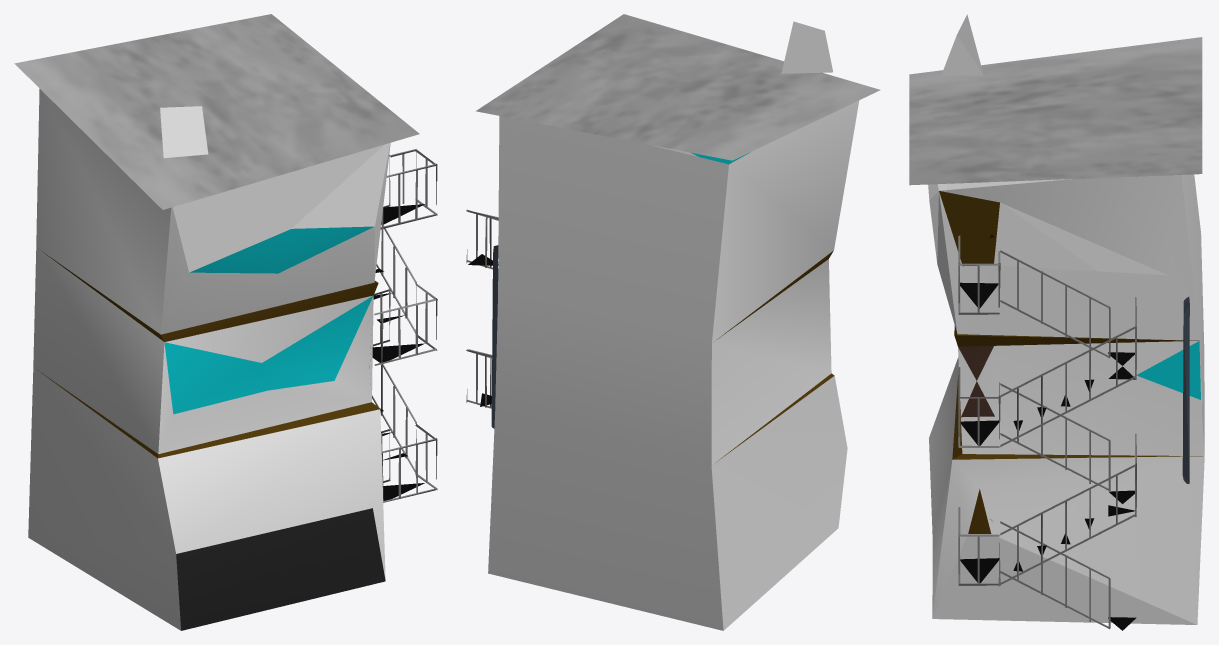
The model's file is PredioTorto-BrancoLOD2.fbx.
3 views of the same model, side by side, from view 1: azimuth 30°, elevation 25°; view 2: azimuth 150°, elevation 25°; view 3: azimuth 270°, elevation 25° (orthographic).
Parts seen in each view (by area): view 1: Predio3AndaresLOD2; view 2: Predio3AndaresLOD2; view 3: Predio3AndaresLOD2.
Part boxes in pixels (left/top/right/bottom): Predio3AndaresLOD2: left=14, top=14, right=437, bottom=630; Predio3AndaresLOD2: left=466, top=14, right=880, bottom=630; Predio3AndaresLOD2: left=909, top=14, right=1204, bottom=630.
Bounding box in the file's own units: 1025 × 1669 × 885.
